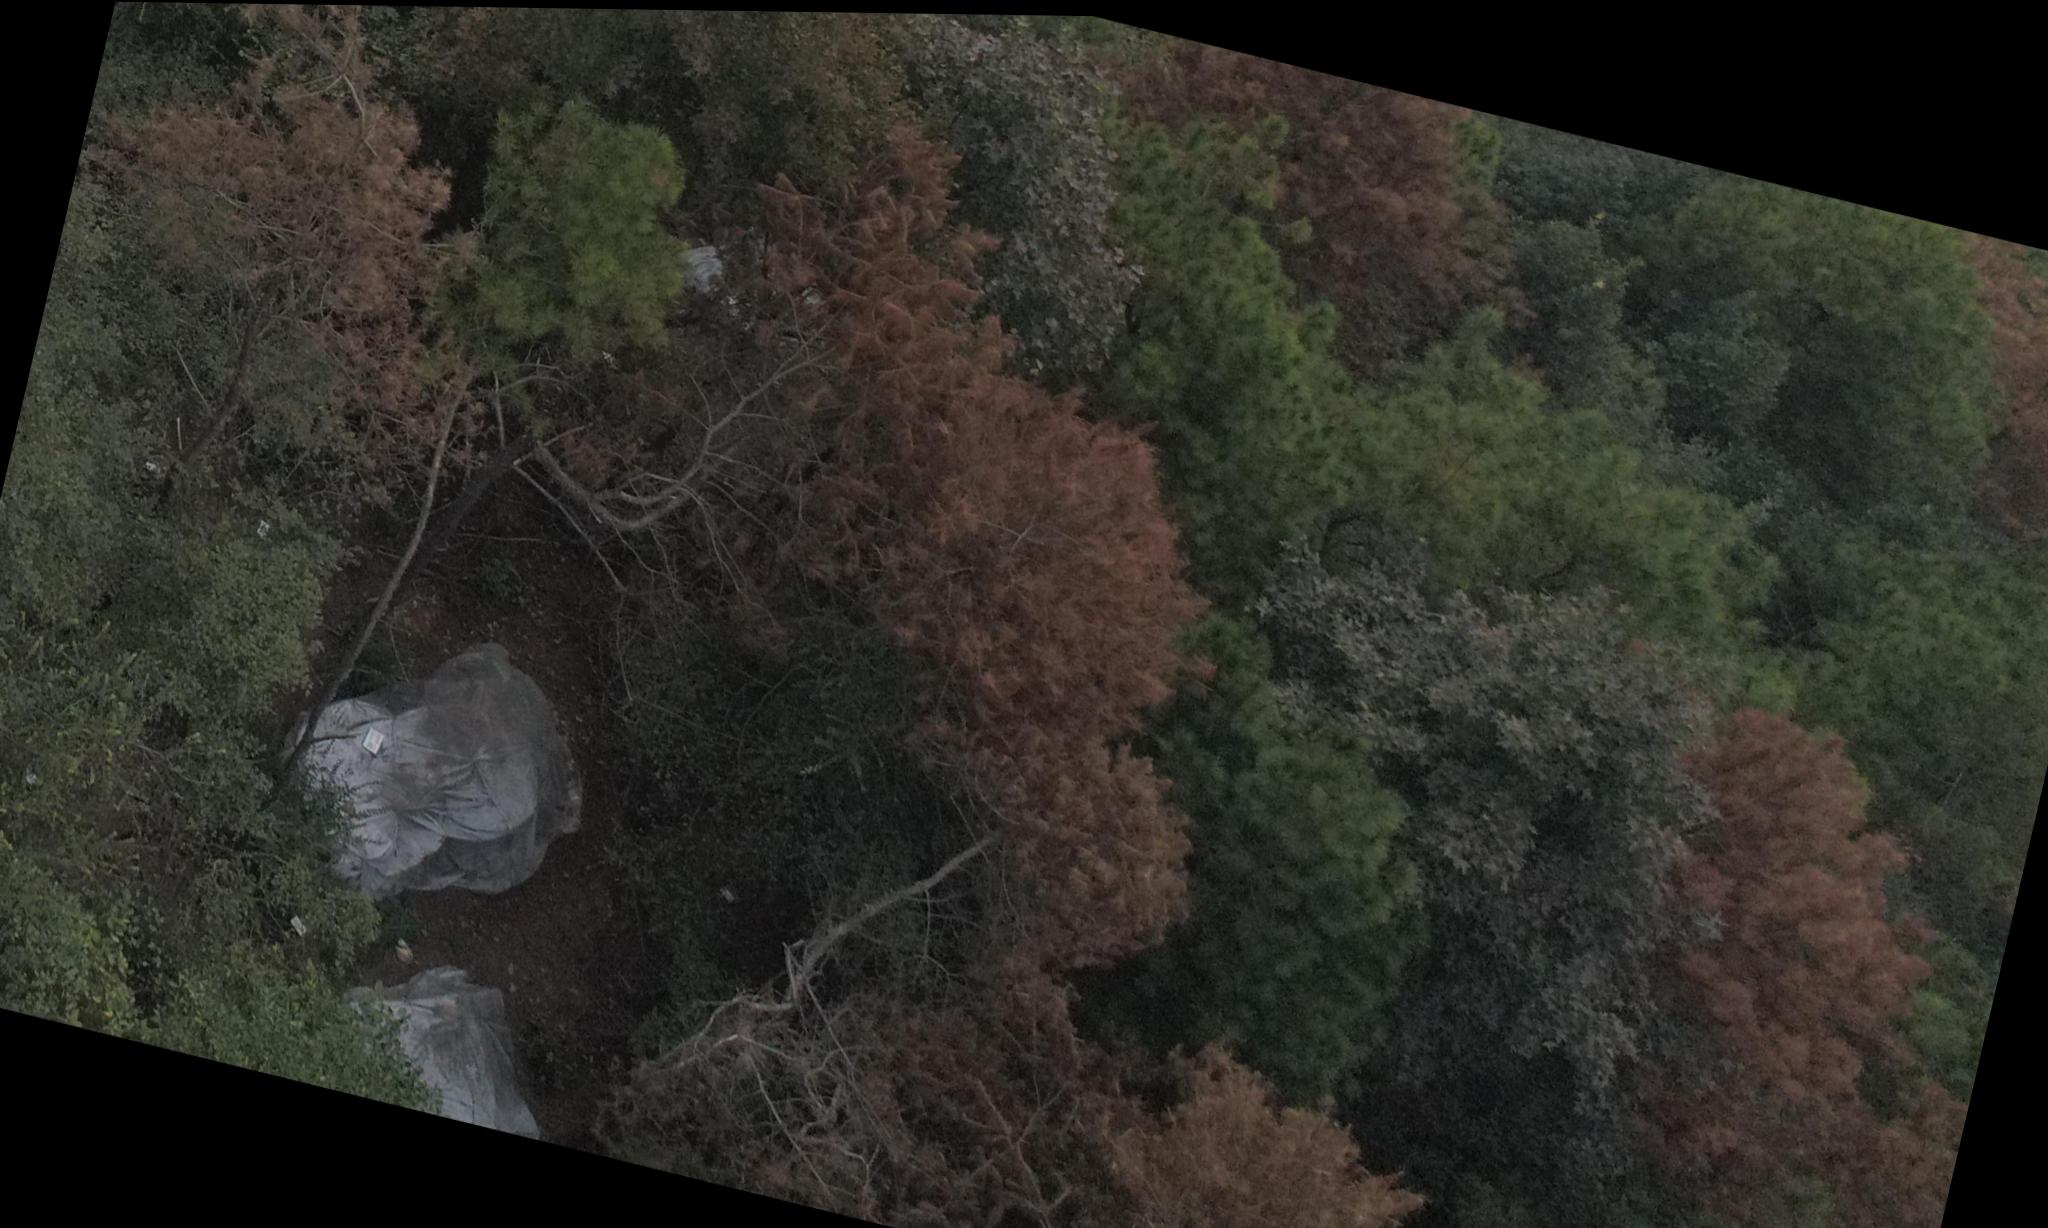heavy: (494, 75, 1376, 1025), (1460, 608, 2048, 1228), (623, 848, 1563, 1228), (18, 0, 523, 520), (1794, 235, 2048, 596)
light: (969, 12, 1552, 456)
